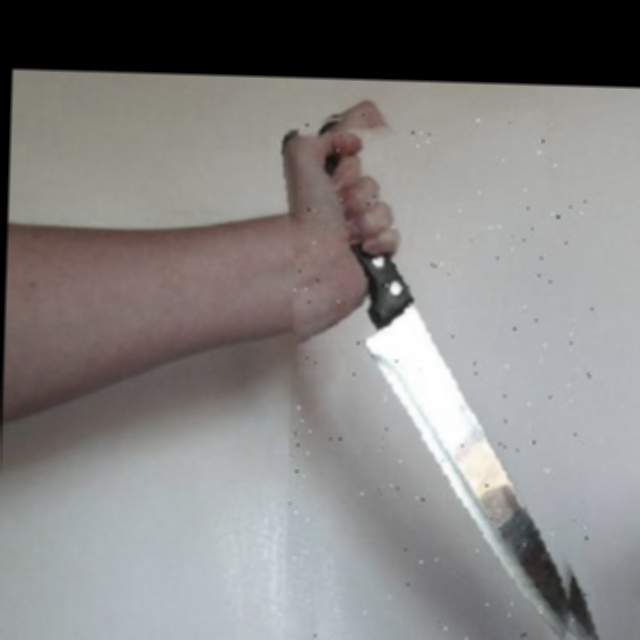Sharp-Object: (282, 109, 599, 640)
